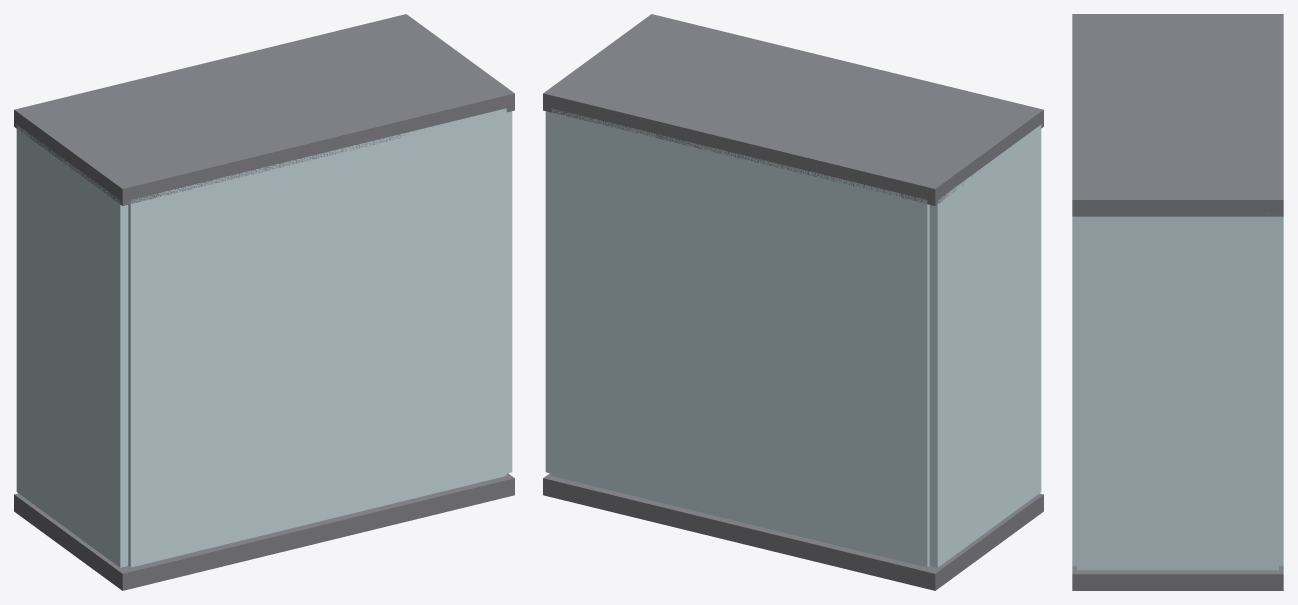
File: glass_showcase.glb
The picture shows the model from 3 angles, left to right: view 1: azimuth 30°, elevation 25°; view 2: azimuth 150°, elevation 25°; view 3: azimuth 270°, elevation 25°; orthographic projection. The views are drawn at different scales.
Visible parts, largest first — view 1: glass, frame; view 2: glass, frame; view 3: glass, frame.
Boxes of the visible parts, <box> form: glass: <box>16,108,512,567</box>; frame: <box>14,14,514,590</box>; glass: <box>545,108,1041,567</box>; frame: <box>543,14,1043,590</box>; glass: <box>1072,213,1283,570</box>; frame: <box>1072,14,1283,590</box>.
Size of the model in its own units: 0.96 by 0.94 by 0.46.
